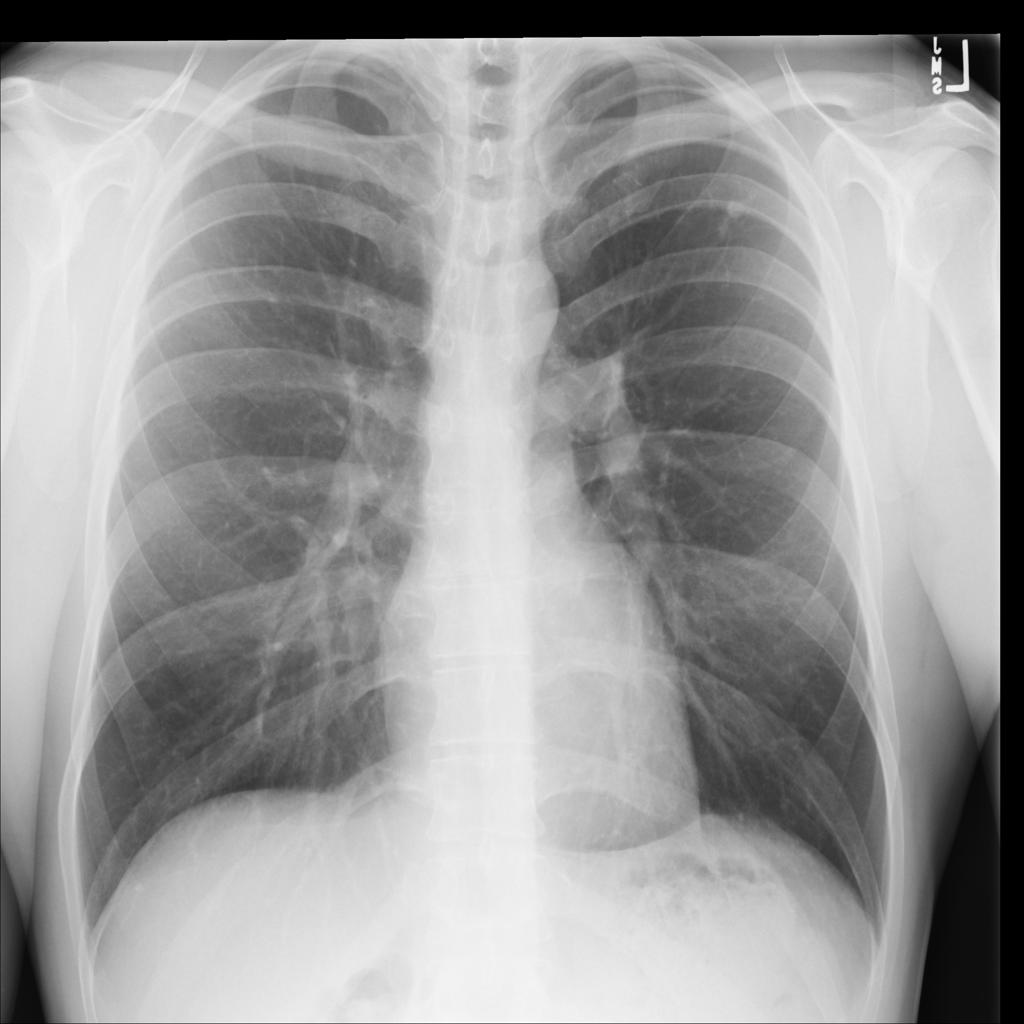nodule: (712, 183, 760, 236)
